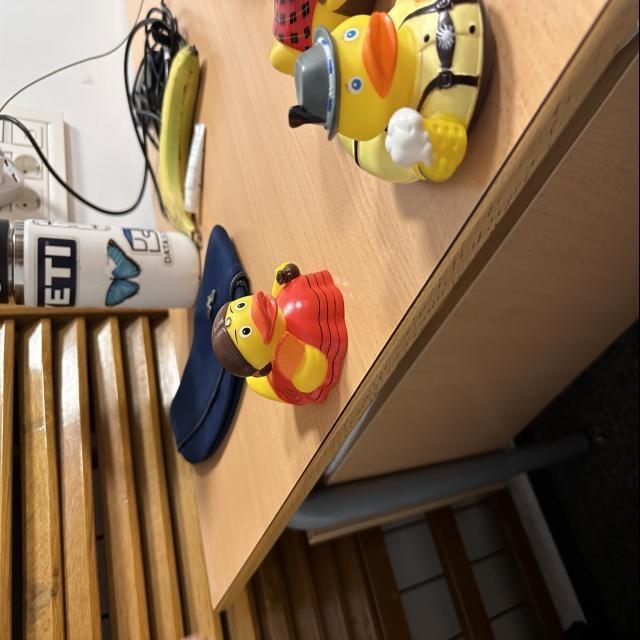rubber-duck: (288, 0, 484, 180), (211, 262, 345, 403)
